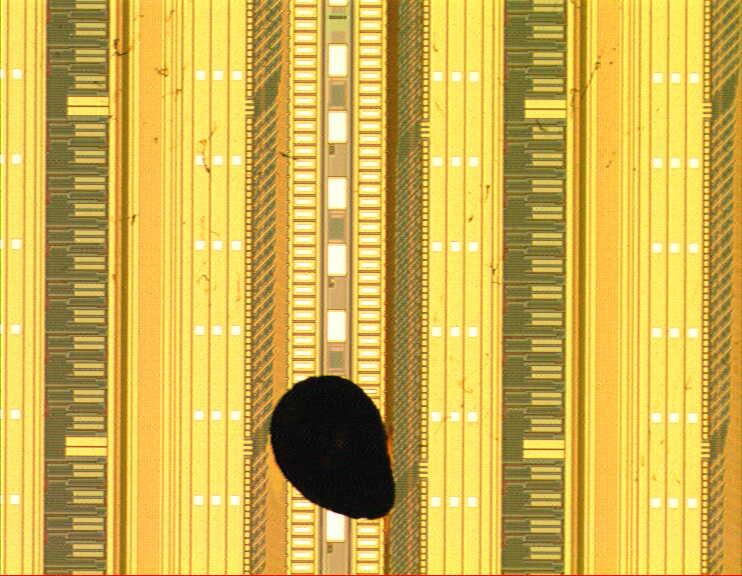PO CONTAMINATION: (264, 372, 402, 525)
